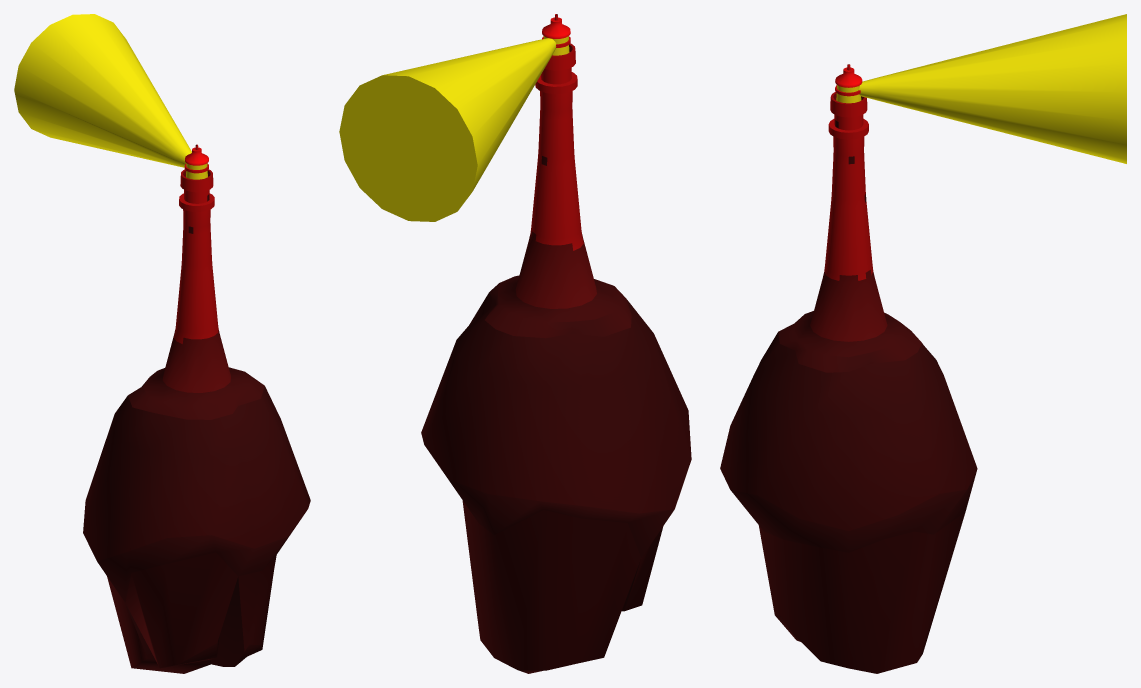
Rendered from buildings-business-lighthouse_v1.fbx.
The picture shows the model from 3 angles, left to right: view 1: azimuth 30°, elevation 25°; view 2: azimuth 150°, elevation 25°; view 3: azimuth 270°, elevation 25°; orthographic projection. The views are drawn at different scales.
Parts seen in each view (by area): view 1: Lighthouse_base, Lighthouse_light; view 2: Lighthouse_base, Lighthouse_light; view 3: Lighthouse_base, Lighthouse_light.
Boxes of the visible parts, <box> form: Lighthouse_base: <box>83,144,310,673</box>; Lighthouse_light: <box>14,14,207,179</box>; Lighthouse_base: <box>421,14,691,673</box>; Lighthouse_light: <box>339,36,569,221</box>; Lighthouse_base: <box>720,64,977,673</box>; Lighthouse_light: <box>836,14,1126,163</box>.
Bounding box in the file's own units: 16.23 × 44.85 × 25.64.
